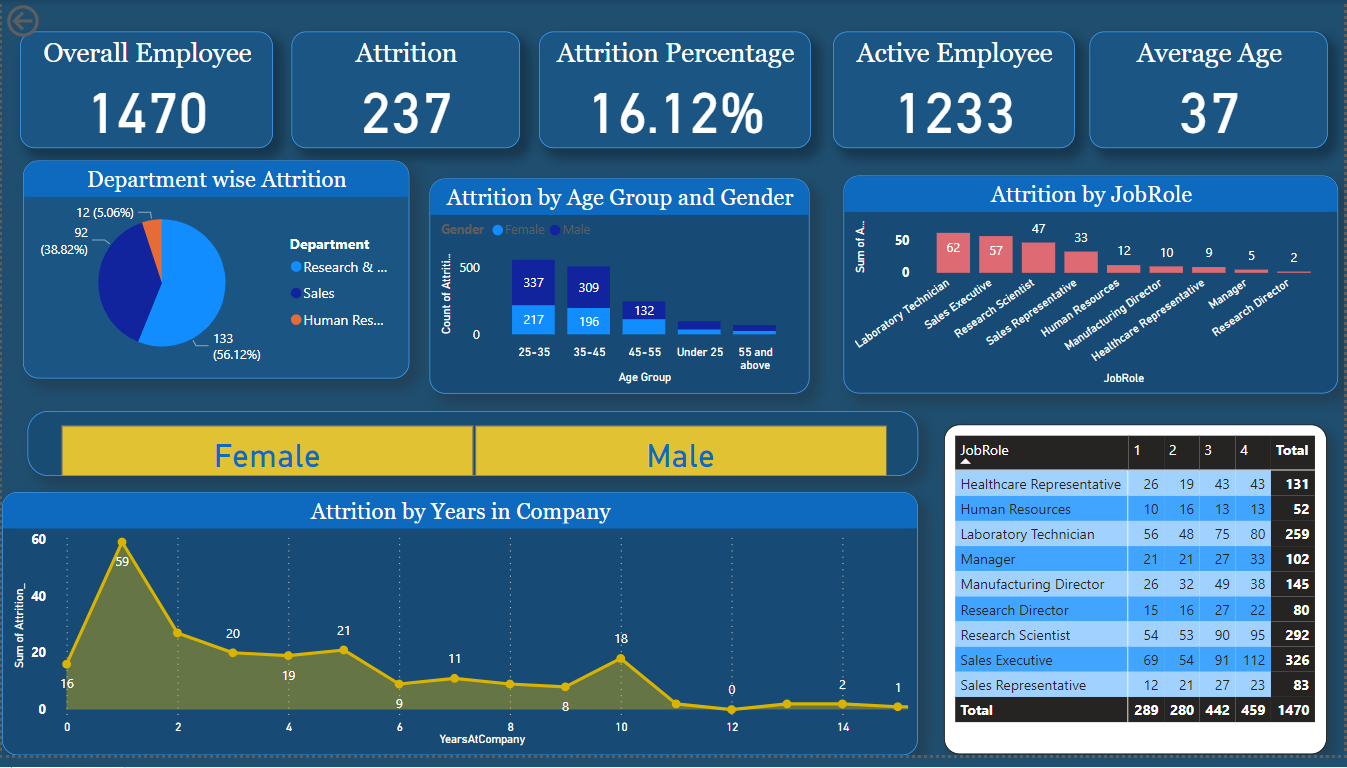

What the dashboard file says about the page in this screenshot:
{"tool":"powerbi","page":{"name":"Page 1","canvas":[1280,720],"ordinal":0},"visuals":[{"type":"card","title":"Overall Employee","fields":{"Values":["Sum(HR Employee Attrition (2).EmployeeCount)"]},"box":[17.5,30.2,241.6,111.3],"z":0},{"type":"card","title":"Attrition Percentage","fields":{"Values":["HR Employee Attrition.Attrition Percentage"]},"box":[511.8,30.2,259.1,111.3],"z":1000},{"type":"card","title":"Attrition","fields":{"Values":["Sum(HR Employee Attrition.Attrition_)"]},"box":[276.6,30.2,217.7,111.3],"z":2000},{"type":"card","title":"Active Employee","fields":{"Values":["HR Employee Attrition.Active Employee"]},"box":[793.1,30.2,230.5,111.3],"z":3000},{"type":"card","title":"Average Age","fields":{"Values":["Avg(HR Employee Attrition.Age)"]},"box":[1037.9,30.2,227.3,111.3],"z":4000},{"type":"pieChart","title":" Department wise Attrition","fields":{"Category":["HR Employee Attrition.Department"],"Y":["Sum(HR Employee Attrition.Attrition_)"]},"box":[20.7,152.6,368.7,208.2],"z":5000},{"type":"columnChart","title":" Attrition by Age Group and Gender","fields":{"Category":["HR Employee Attrition.Age Group"],"Series":["HR Employee Attrition.Gender"],"Y":["CountNonNull(HR Employee Attrition.Attrition)"]},"box":[408.5,170.1,362.4,205],"z":6000},{"type":"columnChart","title":"Attrition by JobRole","fields":{"Category":["HR Employee Attrition.JobRole"],"Y":["Sum(HR Employee Attrition.Attrition_)"]},"box":[802.6,166.9,472.1,208.2],"z":7000},{"type":"areaChart","title":"Attrition by Years in Company","fields":{"Y":["Sum(HR Employee Attrition.Attrition_)"],"Category":["HR Employee Attrition.YearsAtCompany"]},"box":[0,468.9,408.5,251.1],"z":8000},{"type":"pivotTable","fields":{"Rows":["HR Employee Attrition.JobRole"],"Columns":["HR Employee Attrition.JobSatisfaction"],"Values":["Sum(HR Employee Attrition.EmployeeCount)"]},"box":[428.3,405,365,315],"z":9000},{"type":"slicer","fields":{"Values":["HR Employee Attrition.Gender"]},"box":[23.8,375.1,360.8,79.5],"z":10000},{"type":"actionButton","box":[0,0,100,40],"z":10001}]}

Visuals, with their boxes on the page's 1280x720 design canvas (x1, y1, x2, y2). These are canvas units, not pixel positions in the 1347x768 screenshot, which may show the page scaled, cropped or inside an application window:
"Overall Employee" card: rect(18, 30, 259, 142)
"Attrition Percentage" card: rect(512, 30, 771, 142)
"Attrition" card: rect(277, 30, 494, 142)
"Active Employee" card: rect(793, 30, 1024, 142)
"Average Age" card: rect(1038, 30, 1265, 142)
" Department wise Attrition" pieChart: rect(21, 153, 389, 361)
" Attrition by Age Group and Gender" columnChart: rect(408, 170, 771, 375)
"Attrition by JobRole" columnChart: rect(803, 167, 1275, 375)
"Attrition by Years in Company" areaChart: rect(0, 469, 408, 720)
pivotTable - HR Employee Attrition.JobRole x HR Employee Attrition.JobSatisfaction: rect(428, 405, 793, 720)
slicer - HR Employee Attrition.Gender: rect(24, 375, 385, 455)
actionButton: rect(0, 0, 100, 40)
